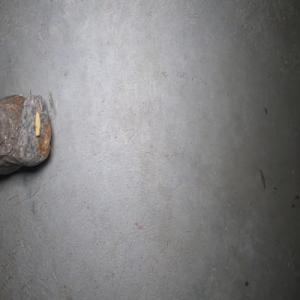Rock: (0, 89, 51, 175)
